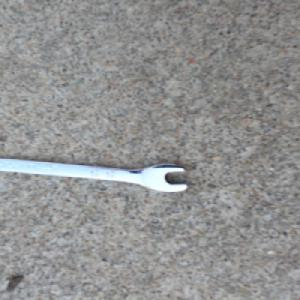Wrench: (0, 155, 192, 193)
